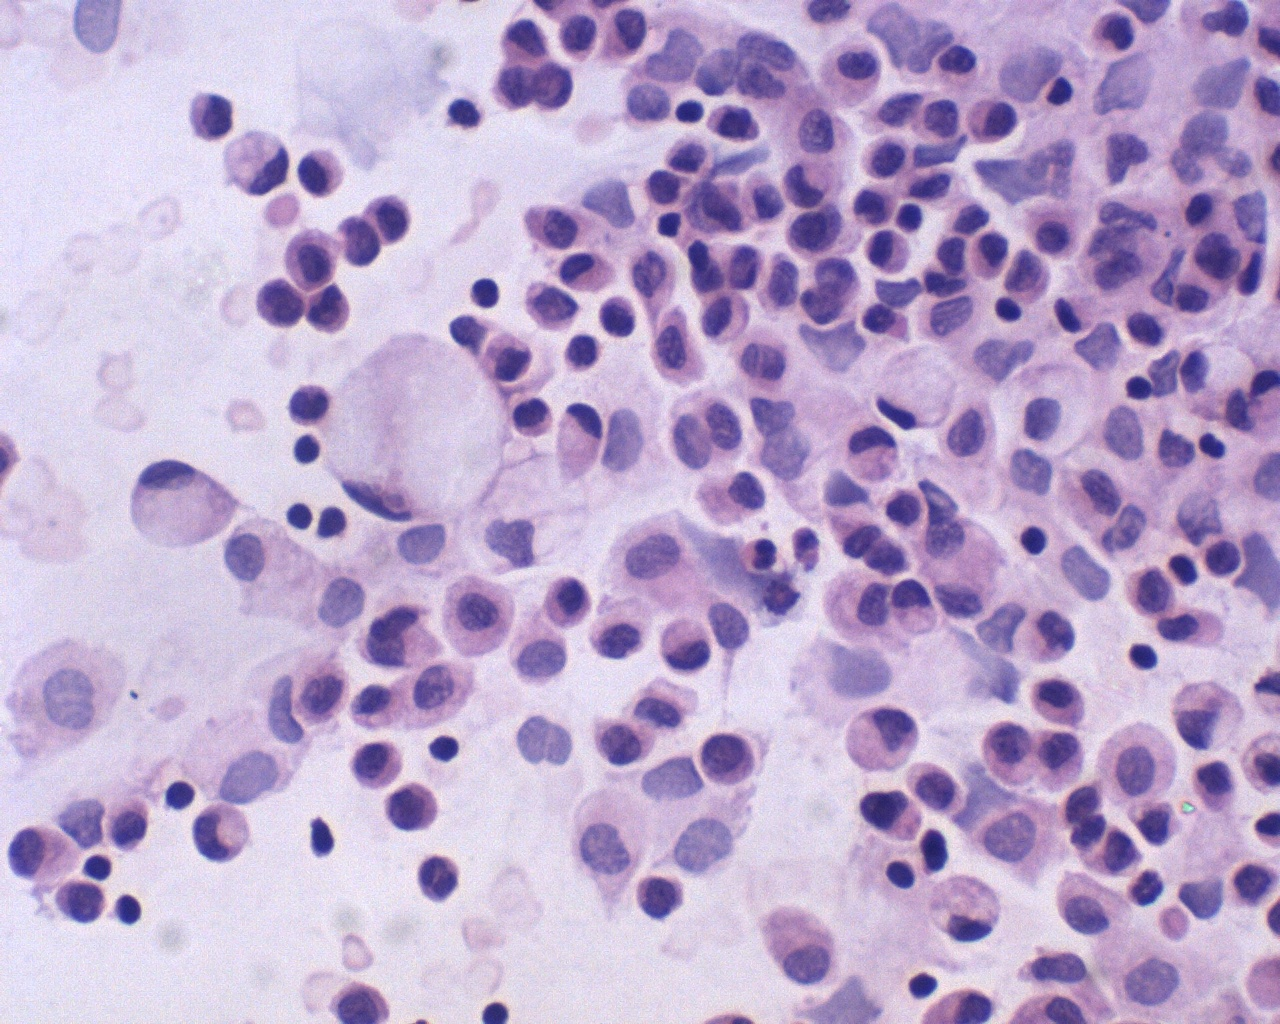ab: (245, 270, 310, 338), (1120, 562, 1186, 625), (694, 725, 757, 788), (381, 779, 443, 837)
histo: (317, 332, 511, 522), (129, 450, 233, 555), (872, 344, 963, 433), (924, 871, 1009, 950), (218, 123, 296, 202)
lymph: (106, 886, 148, 928), (1017, 520, 1058, 560), (159, 776, 202, 814), (1127, 636, 1164, 678), (990, 290, 1027, 328), (1121, 367, 1159, 403), (672, 94, 708, 127), (79, 850, 114, 884)
meso: (1092, 714, 1182, 809), (436, 572, 521, 666), (5, 819, 85, 887), (1027, 672, 1106, 732), (539, 572, 594, 634)
neutro: (405, 851, 465, 909), (1125, 865, 1170, 913), (737, 532, 779, 576)
